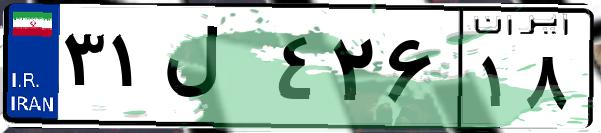1: (475, 38, 525, 113), (110, 28, 158, 98)
2: (330, 28, 385, 110)
3: (57, 26, 110, 100)
4: (270, 28, 330, 110)
6: (385, 28, 445, 110)
8: (525, 38, 570, 115)
ل: (158, 20, 270, 120)
